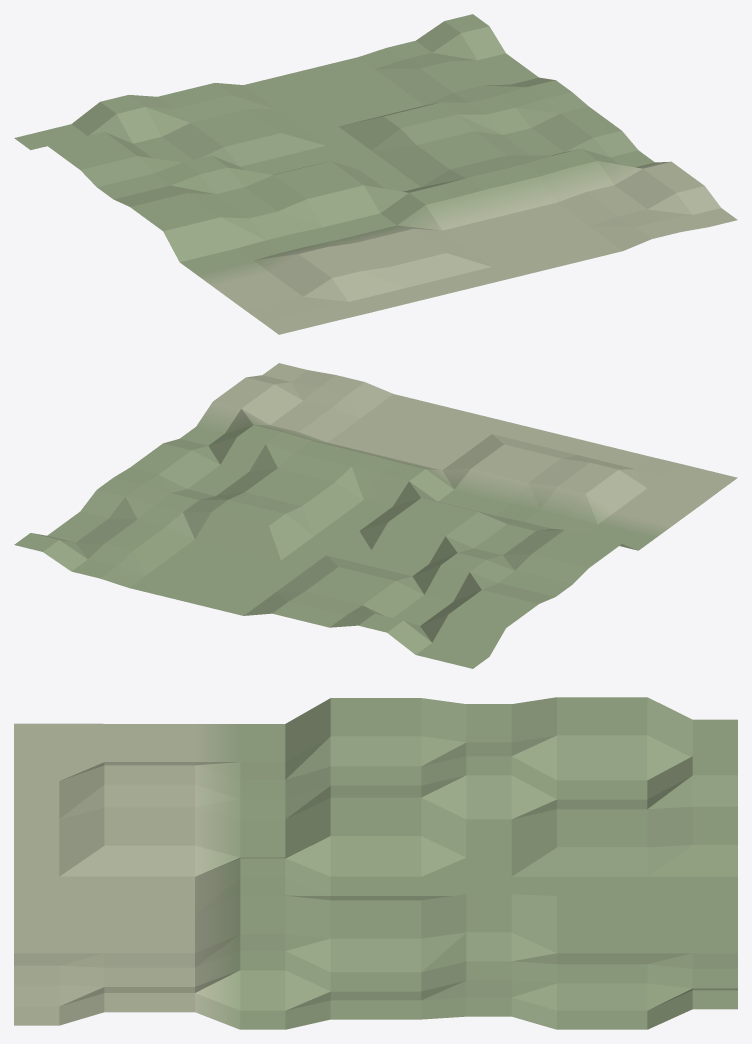
3 views of the same model, one above another, from view 1: azimuth 30°, elevation 25°; view 2: azimuth 150°, elevation 25°; view 3: azimuth 270°, elevation 25° (orthographic). The views are drawn at different scales.
Size of the model in its own units: 32 by 1.3 by 32.
